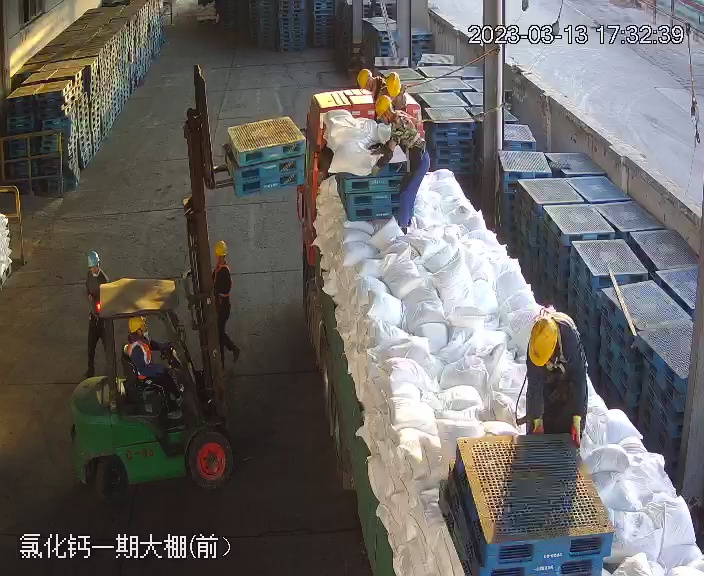belt: (535, 312, 585, 376), (391, 107, 434, 146), (215, 263, 233, 295)
head: (524, 314, 583, 377), (372, 96, 421, 139), (355, 69, 401, 108), (125, 317, 157, 358), (82, 250, 110, 295), (212, 239, 233, 280)
helmet: (526, 319, 560, 365), (384, 73, 402, 97), (374, 96, 393, 117), (356, 68, 371, 90), (128, 316, 145, 332), (85, 251, 100, 269), (213, 240, 228, 255)
people: (518, 315, 591, 450), (370, 94, 429, 235), (126, 317, 187, 415), (81, 248, 120, 382), (207, 240, 240, 361), (124, 316, 165, 372)
truck: (285, 70, 704, 576)
